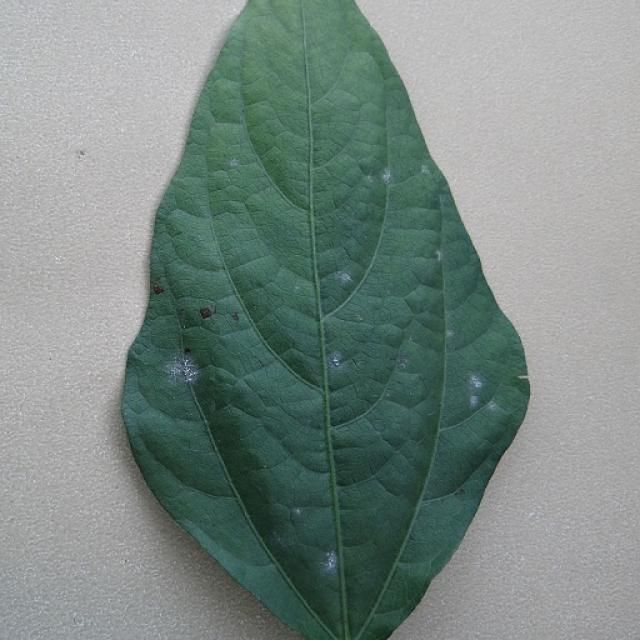Blackgram: (122, 0, 529, 639)
Powdery_Mildew: (461, 365, 498, 413), (162, 348, 201, 390), (163, 353, 200, 387), (321, 550, 338, 574), (511, 373, 531, 386), (328, 353, 343, 368), (336, 271, 352, 283), (199, 307, 212, 319), (469, 395, 480, 408), (153, 284, 165, 295), (489, 400, 500, 412), (382, 170, 392, 183), (421, 164, 431, 175), (183, 346, 193, 356), (472, 379, 482, 388), (229, 158, 239, 167), (292, 507, 301, 517), (436, 250, 443, 262), (527, 510, 535, 519), (517, 375, 530, 380)
